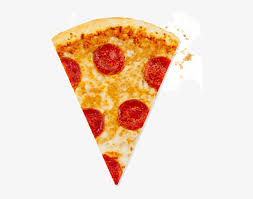pizza: (53, 15, 181, 183)
